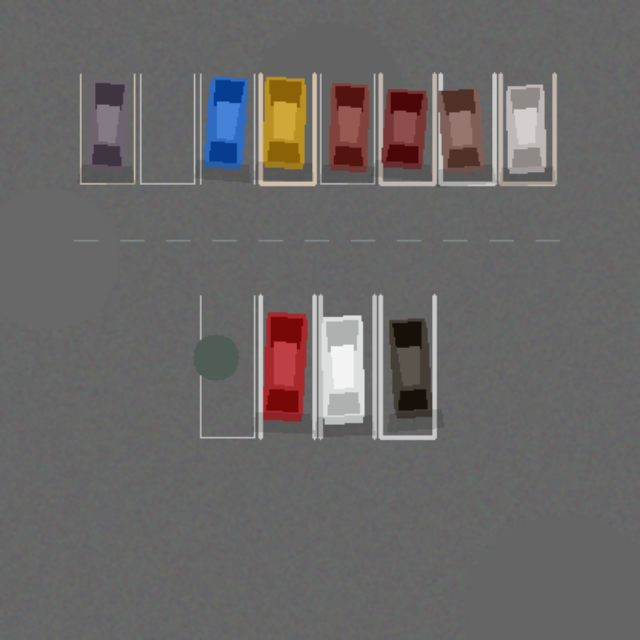space-empty: (200, 295, 254, 437), (140, 74, 194, 183)
space-occupied: (260, 295, 314, 437), (320, 295, 374, 437), (380, 295, 434, 437), (80, 74, 134, 183), (200, 74, 254, 183), (260, 74, 314, 183), (320, 74, 374, 183), (380, 74, 434, 183), (440, 74, 494, 183), (500, 74, 554, 183)
